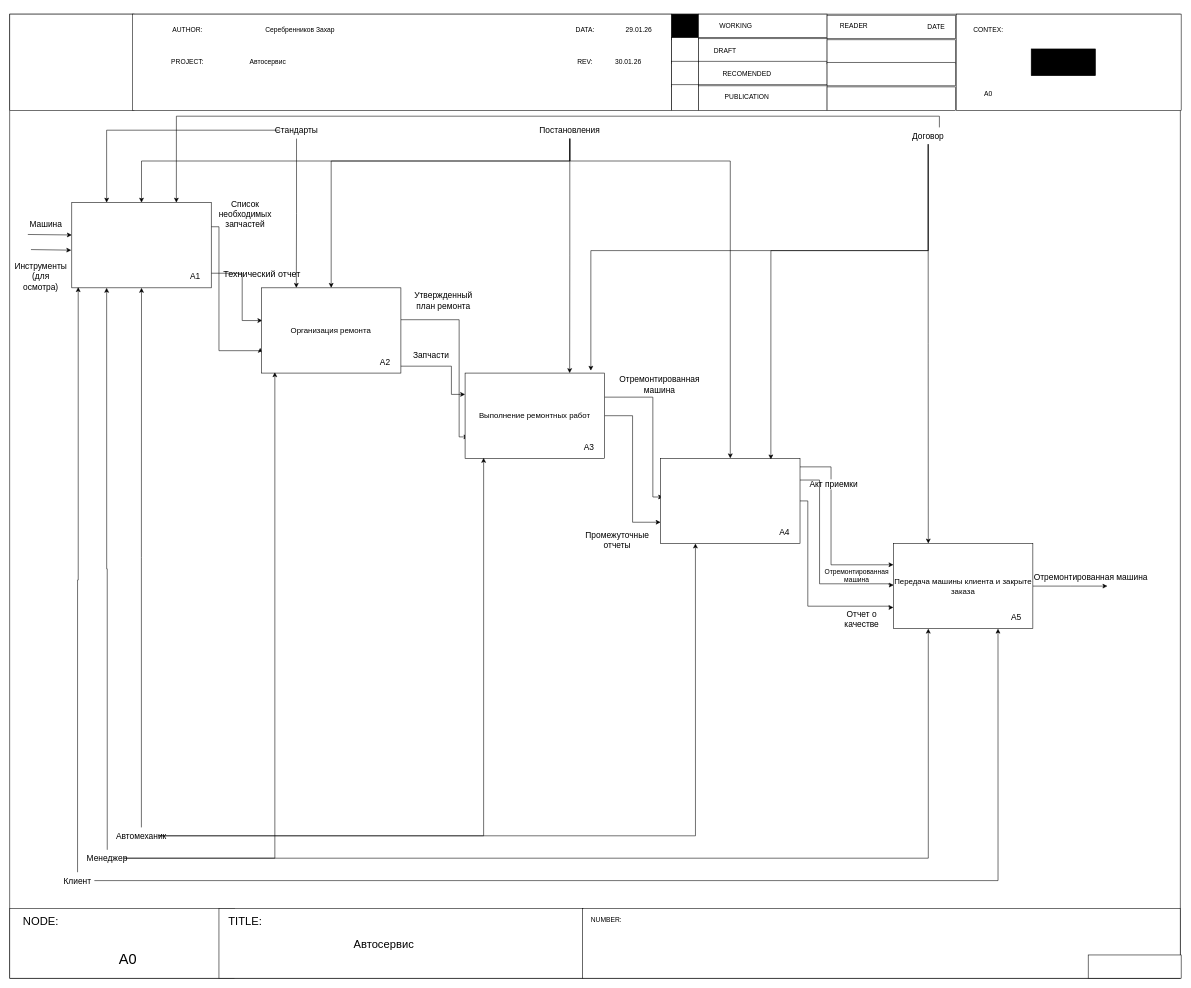
This 1191x988 diagram has some shape labels left out. Each missing label, with the box of its shape:
USED AT:: (9, 14, 134, 111)
Прием и диагностика машины: (71, 202, 211, 288)
Приемка и контроль качества: (660, 458, 800, 544)
